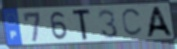3: (97, 8, 119, 40)
6: (49, 10, 69, 41)
7: (22, 11, 43, 43)
A: (144, 5, 175, 38)
C: (120, 7, 144, 38)
T: (71, 8, 92, 42)
